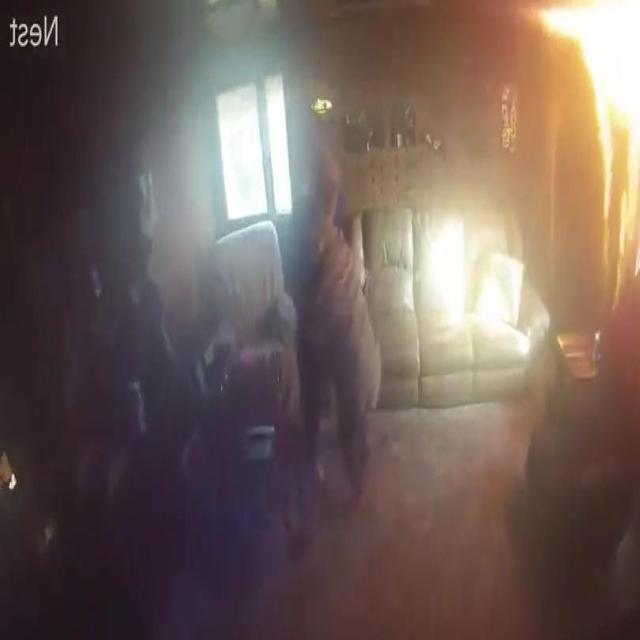smoke: (534, 0, 640, 268)
